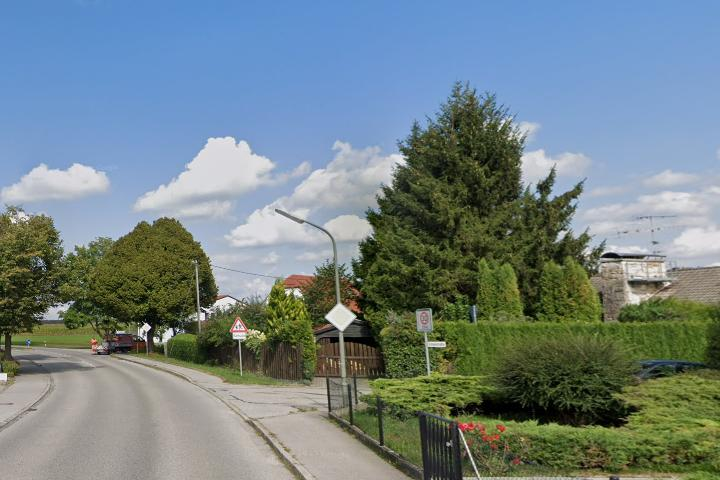traffic_sign: (323, 303, 357, 333), (228, 316, 248, 333), (419, 312, 429, 326), (141, 322, 151, 332)
